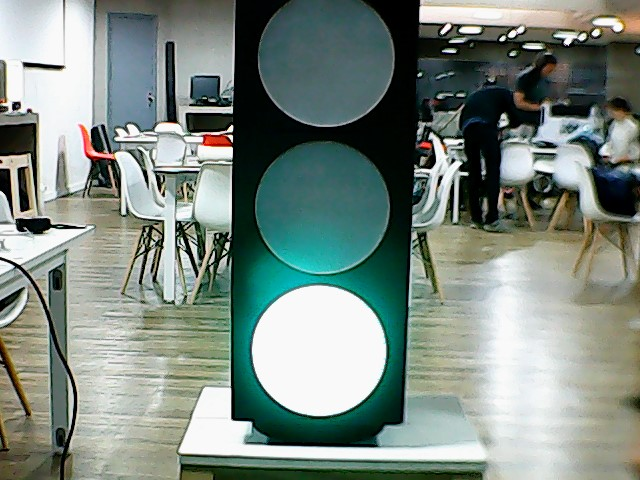verde: (227, 1, 422, 427)
